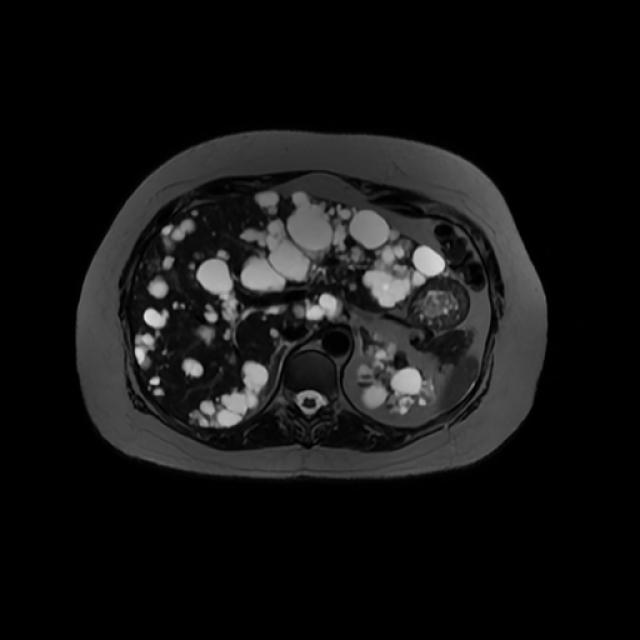sol: (357, 339, 435, 414)
